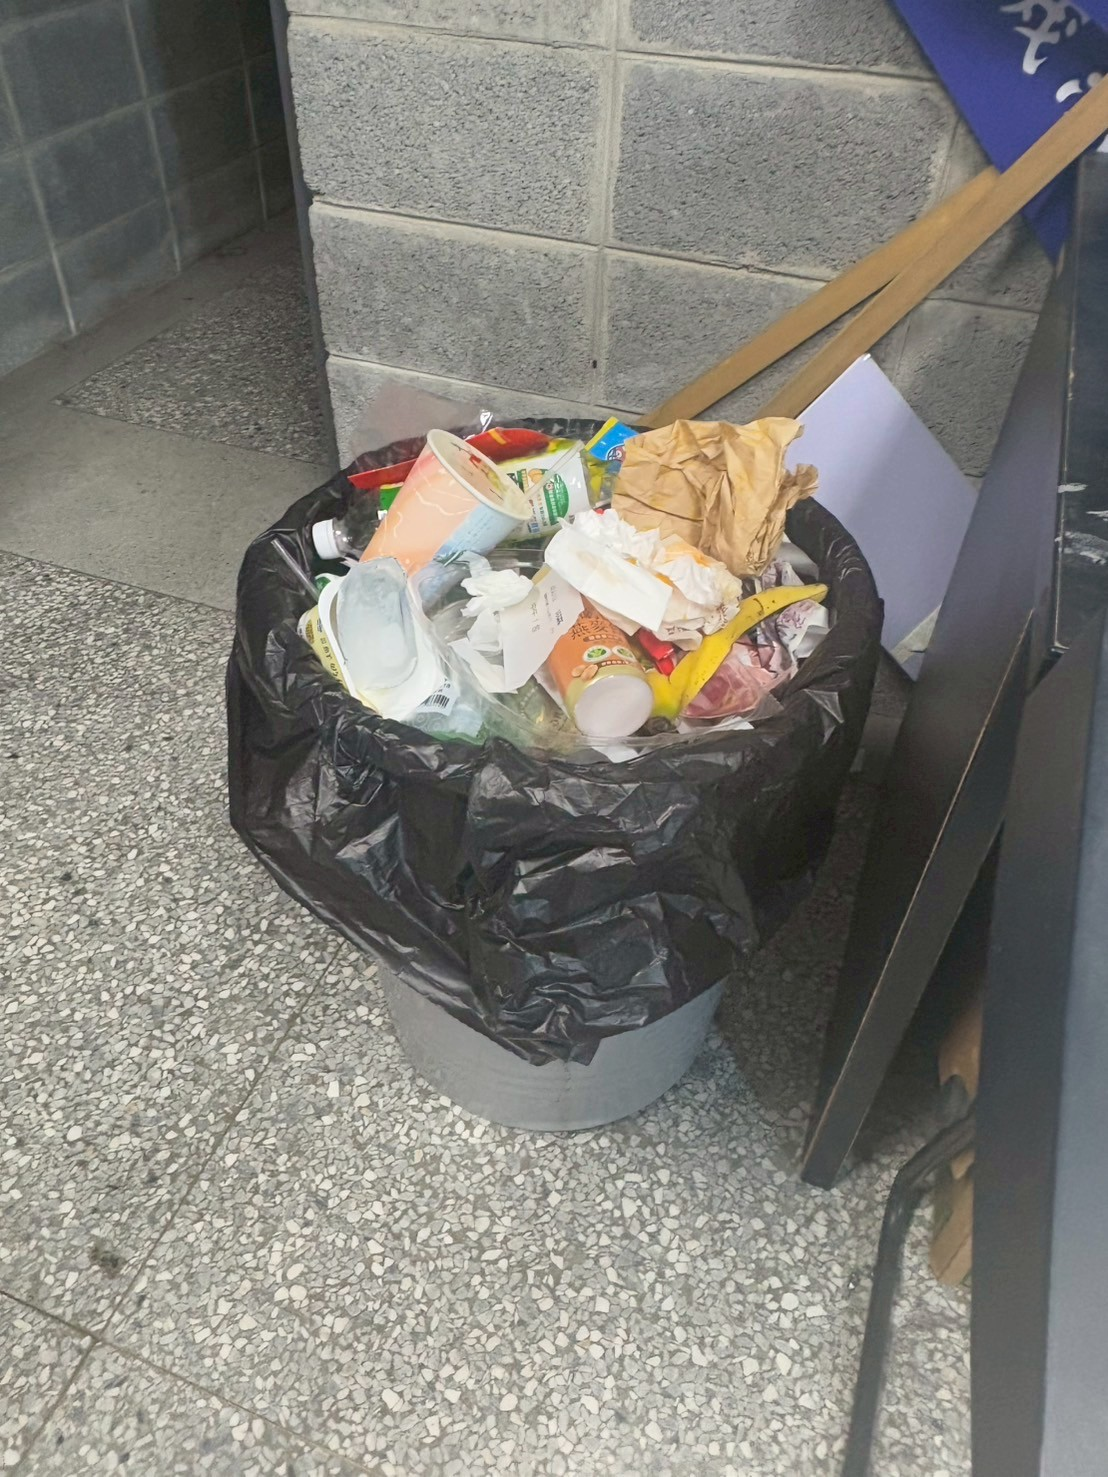overflow_bin: (209, 395, 917, 1144)
